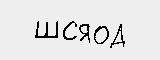Д: (112, 24, 129, 49)
О: (92, 24, 111, 46)
С: (64, 19, 81, 41)
Ш: (35, 20, 60, 39)
Я: (77, 22, 93, 46)
